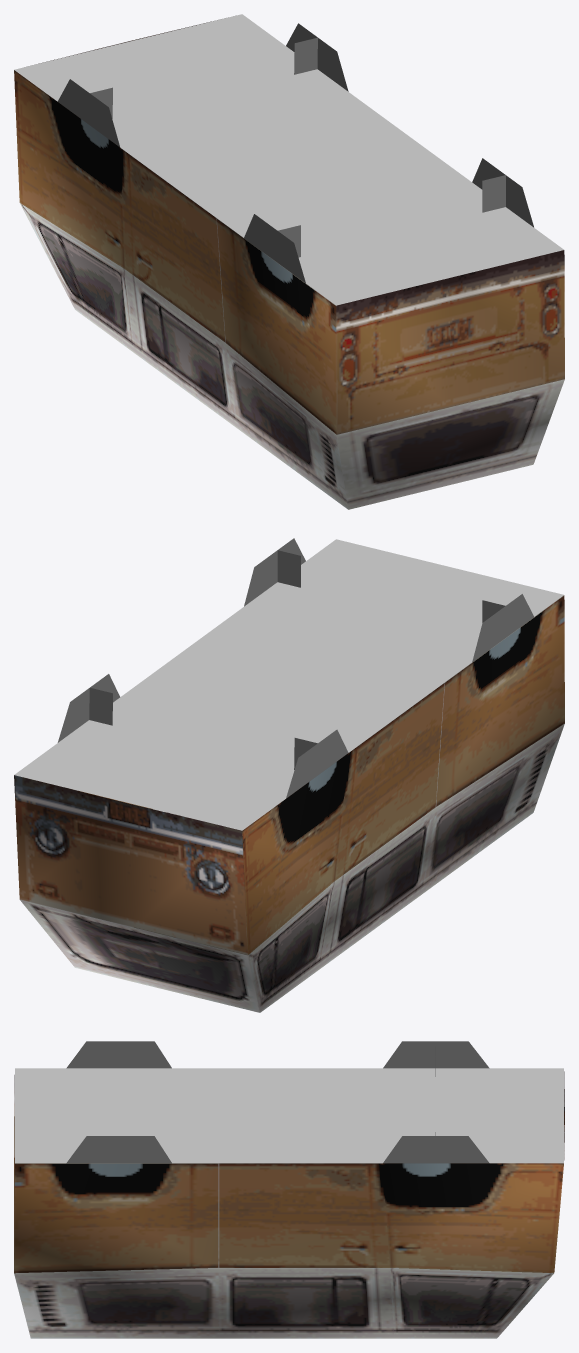
The model's file is HAVANA_model11_low.obj.
3 views of the same model, one above another, from view 1: azimuth 30°, elevation 25°; view 2: azimuth 150°, elevation 25°; view 3: azimuth 270°, elevation 25° (orthographic). The views are drawn at different scales.
Visible parts, largest first — view 1: HAVANA_model11_low; view 2: HAVANA_model11_low; view 3: HAVANA_model11_low.
Part boxes in pixels (bbox=[...]): HAVANA_model11_low: bbox=[14, 14, 564, 509]; HAVANA_model11_low: bbox=[14, 538, 564, 1012]; HAVANA_model11_low: bbox=[14, 1041, 564, 1338].
Size of the model in its own units: 254 by 264 by 623.
